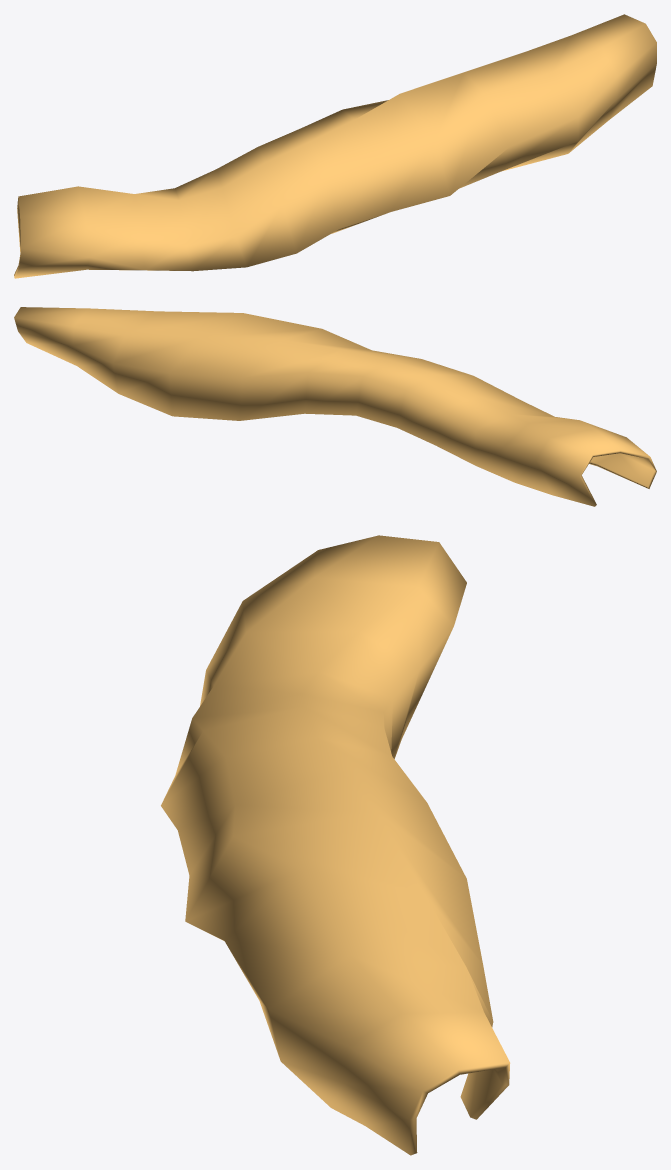
The model's file is Skin.fbx.
3 views of the same model, one above another, from view 1: azimuth 30°, elevation 25°; view 2: azimuth 150°, elevation 25°; view 3: azimuth 270°, elevation 25° (orthographic). The views are drawn at different scales.
Visible parts, largest first — view 1: Skin; view 2: Skin; view 3: Skin.
Boxes of the visible parts, left/top/right/bottom form: Skin: left=14, top=14, right=656, bottom=278; Skin: left=14, top=307, right=656, bottom=506; Skin: left=161, top=535, right=510, bottom=1155.
Bounding box in the file's own units: 99.84 × 12.8 × 25.18.
